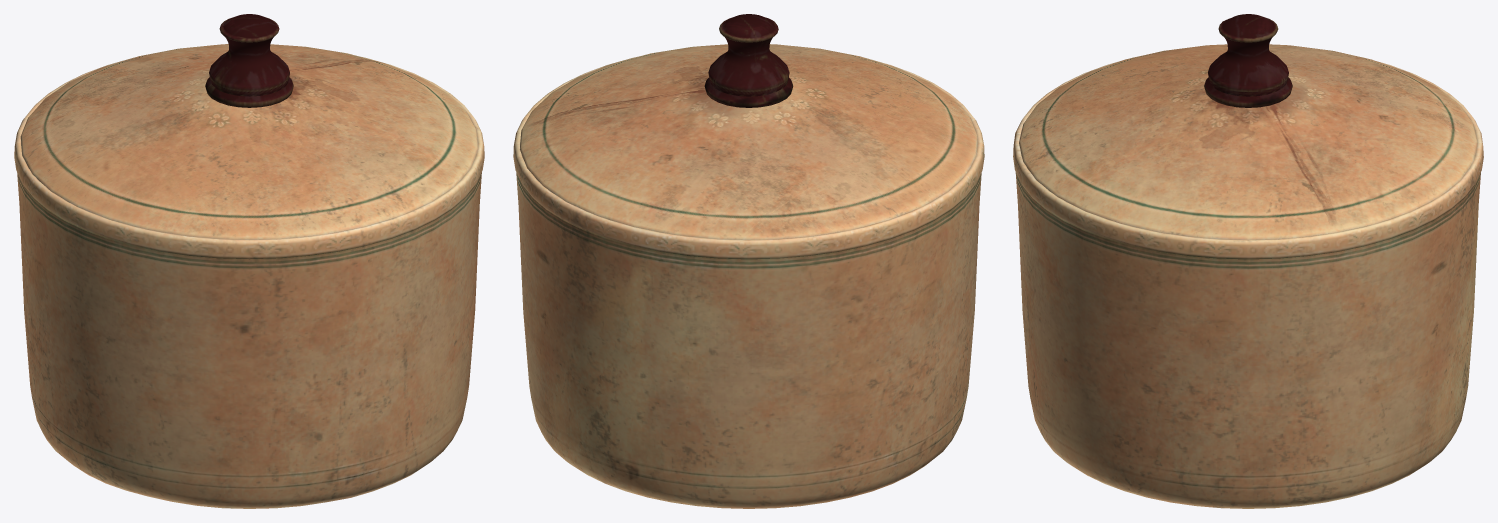
File: brass_pot_01.glb
The picture shows the model from 3 angles, left to right: view 1: azimuth 30°, elevation 25°; view 2: azimuth 150°, elevation 25°; view 3: azimuth 270°, elevation 25°; orthographic projection.
Visible parts, largest first — view 1: brass_pot_01; view 2: brass_pot_01; view 3: brass_pot_01.
Part boxes in pixels (<box>): brass_pot_01: <box>14,14,484,508</box>; brass_pot_01: <box>513,14,984,508</box>; brass_pot_01: <box>1013,14,1483,508</box>.
Bounding box in the file's own units: 0.3019 × 0.2909 × 0.3017.
Materials: 1 (1 with a texture image).
